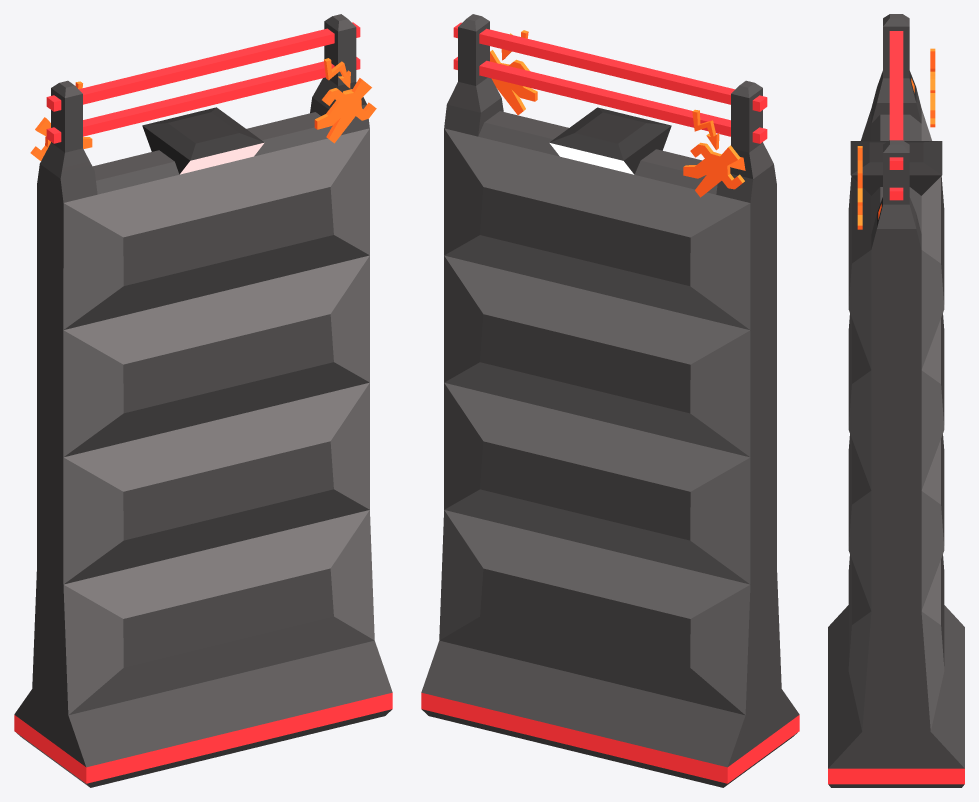
Rendered from scifi_scifi-barrier-large-electric-sign.fbx.
3 views of the same model, side by side, from view 1: azimuth 30°, elevation 25°; view 2: azimuth 150°, elevation 25°; view 3: azimuth 270°, elevation 25° (orthographic). The views are drawn at different scales.
Visible parts, largest first — view 1: scifi_scifi_barrier_large_electric_sign; view 2: scifi_scifi_barrier_large_electric_sign; view 3: scifi_scifi_barrier_large_electric_sign.
Boxes of the visible parts, box(x1,y1,x2,y2) form: scifi_scifi_barrier_large_electric_sign: box(14, 14, 392, 787); scifi_scifi_barrier_large_electric_sign: box(421, 14, 799, 787); scifi_scifi_barrier_large_electric_sign: box(828, 14, 964, 787).
Size of the model in its own units: 94.87 by 200 by 38.68.
